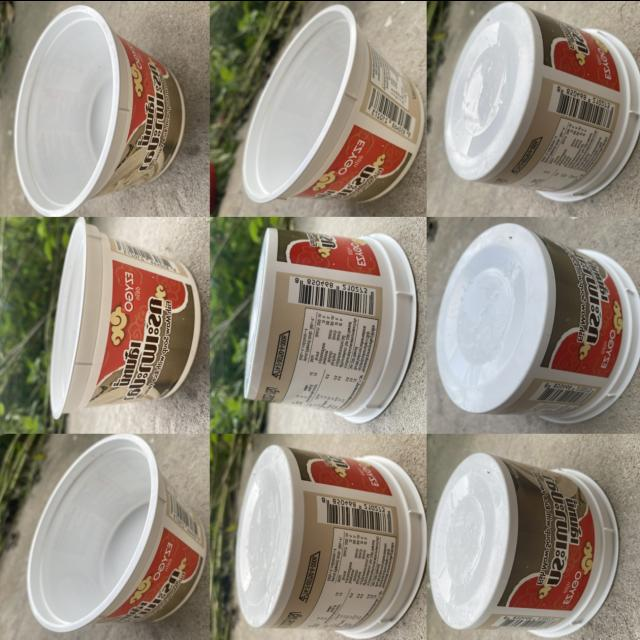plastik: (436, 223, 640, 422), (444, 2, 640, 201), (236, 444, 426, 638), (14, 4, 184, 215), (243, 4, 424, 202), (27, 434, 206, 631), (429, 451, 618, 637), (245, 228, 416, 422), (50, 218, 199, 417)
